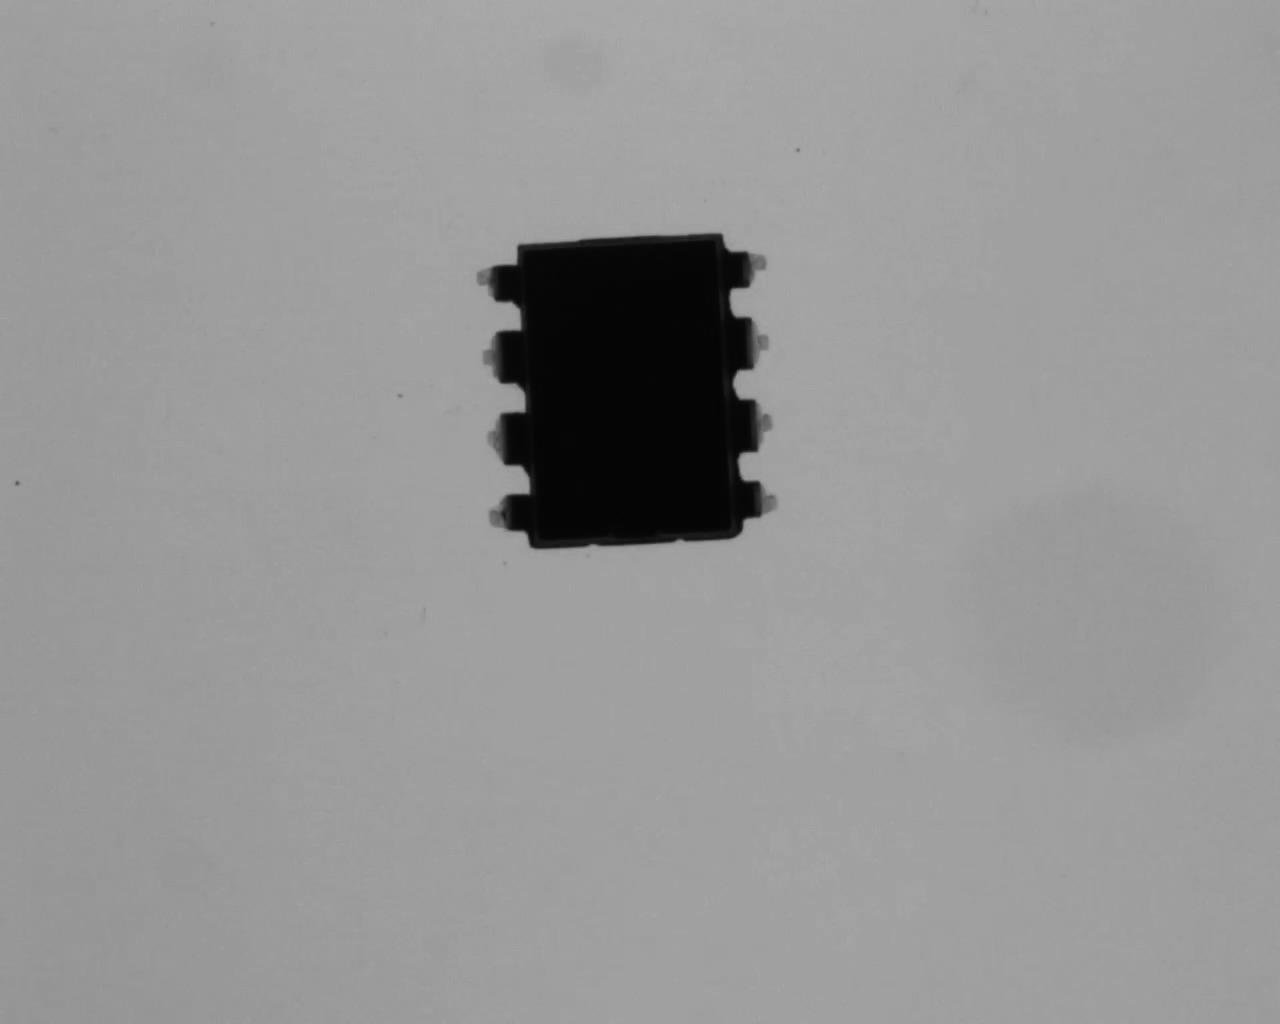Leg: (476, 408, 540, 471), (465, 326, 530, 388), (725, 311, 777, 385), (474, 256, 525, 316), (479, 489, 537, 536), (721, 241, 774, 293), (734, 398, 782, 455), (738, 482, 790, 526)
